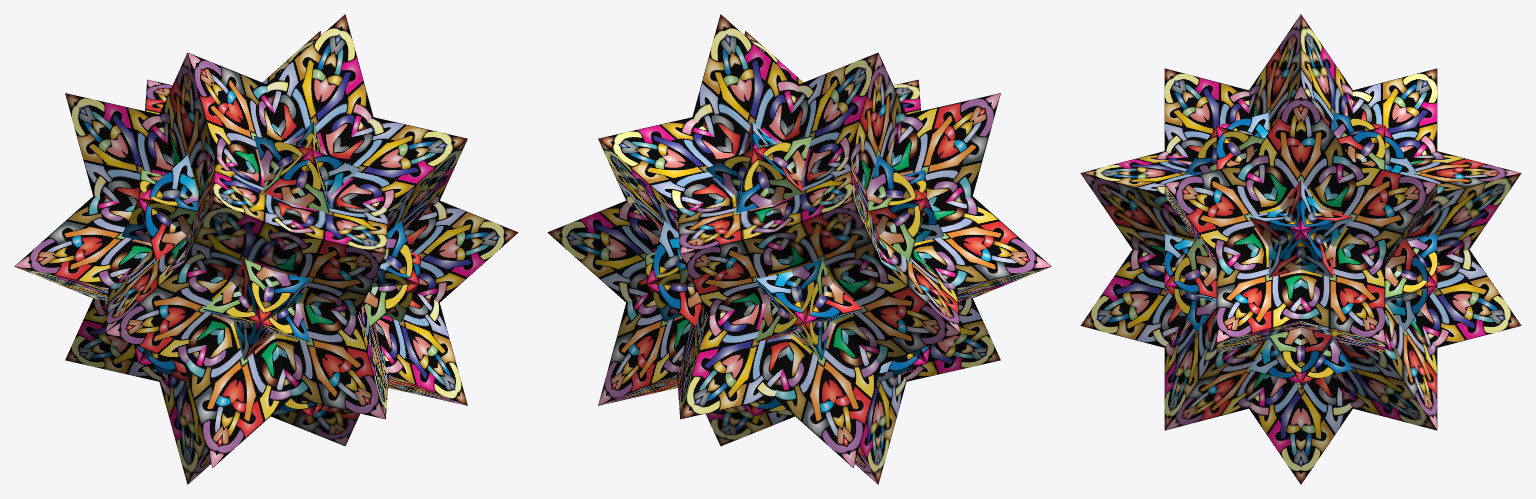
The model's file is 33GreatRhombicTriacontahedron.obj.
3 views of the same model, side by side, from view 1: azimuth 30°, elevation 25°; view 2: azimuth 150°, elevation 25°; view 3: azimuth 270°, elevation 25° (orthographic). The views are drawn at different scales.
Bounding box in the file's own units: 1.12 × 1.12 × 1.12.
1 material, 1 textured.
